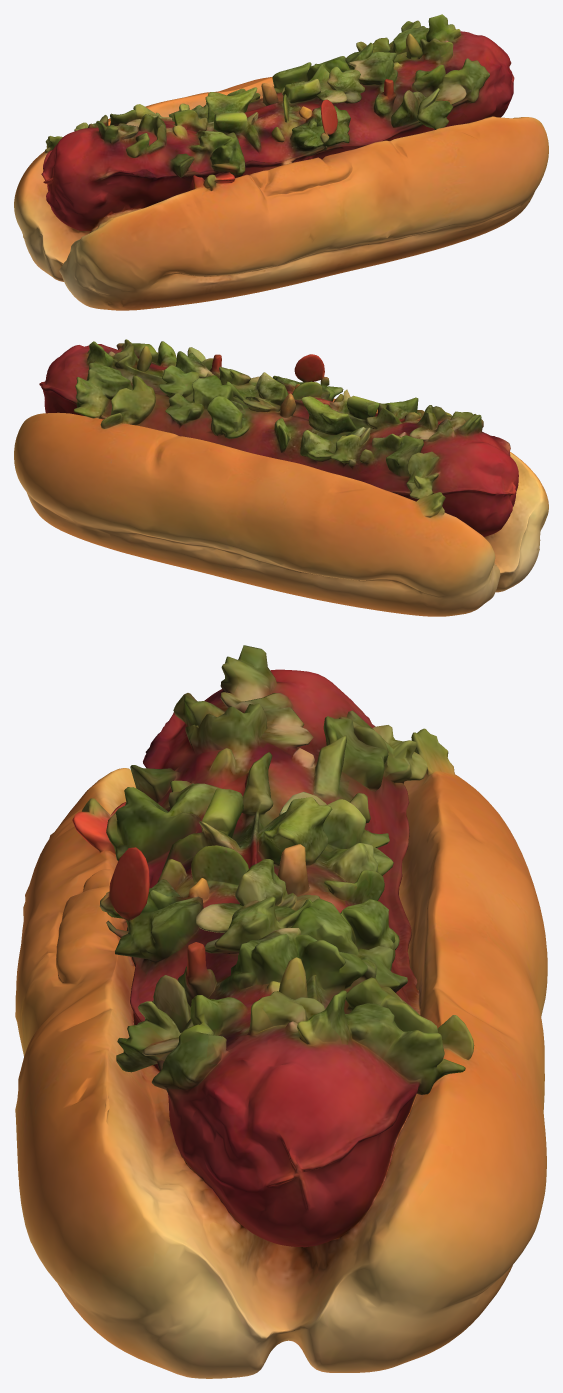
File: choripan.glb
3 views of the same model, one above another, from view 1: azimuth 30°, elevation 25°; view 2: azimuth 150°, elevation 25°; view 3: azimuth 270°, elevation 25° (orthographic). The views are drawn at different scales.
Visible parts, largest first — view 1: tripo_node_a937874a-03aa-43e3-bfd6-eee9266bee25; view 2: tripo_node_a937874a-03aa-43e3-bfd6-eee9266bee25; view 3: tripo_node_a937874a-03aa-43e3-bfd6-eee9266bee25.
Part boxes in pixels (box(x1,y1,x2,y2)): tripo_node_a937874a-03aa-43e3-bfd6-eee9266bee25: box(14, 14, 548, 310); tripo_node_a937874a-03aa-43e3-bfd6-eee9266bee25: box(14, 339, 548, 616); tripo_node_a937874a-03aa-43e3-bfd6-eee9266bee25: box(15, 645, 547, 1378).
Bounding box in the file's own units: 0.9801 × 0.3579 × 0.4801.
Materials: 1 (1 with a texture image).
